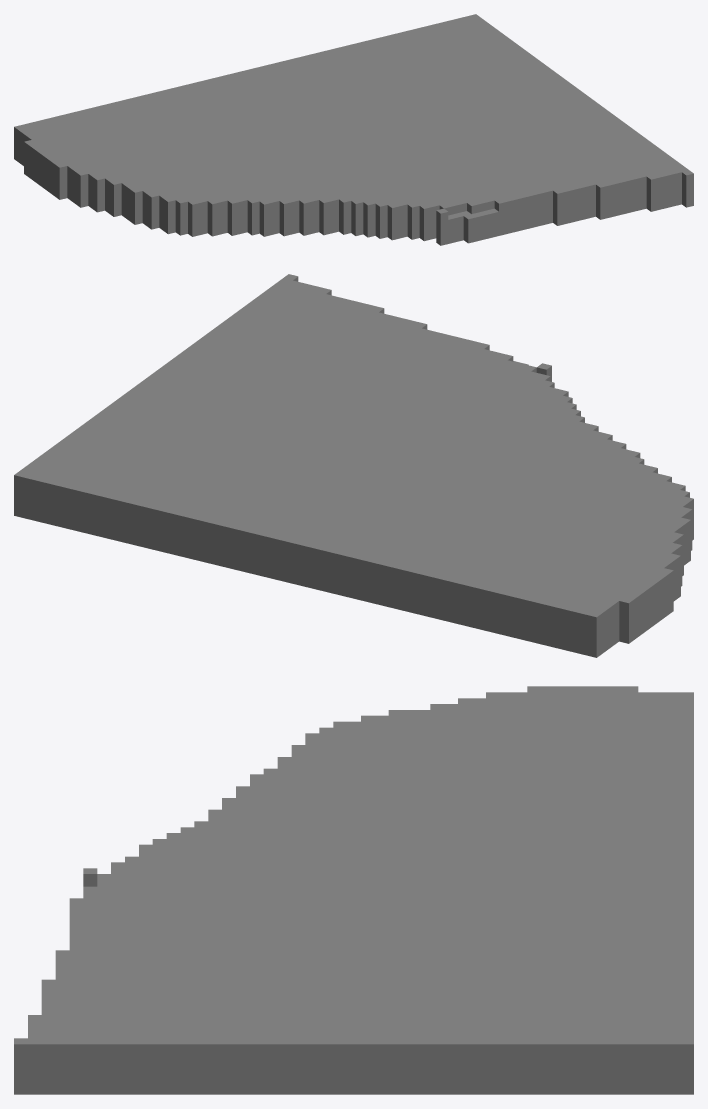
The model's file is Main Island-11.obj.
3 views of the same model, one above another, from view 1: azimuth 30°, elevation 25°; view 2: azimuth 150°, elevation 25°; view 3: azimuth 270°, elevation 25° (orthographic). The views are drawn at different scales.
Visible parts, largest first — view 1: Main Island-11; view 2: Main Island-11; view 3: Main Island-11.
Boxes of the visible parts, x1,y1,x2,y2 form: Main Island-11: (14, 14, 693, 245); Main Island-11: (14, 274, 693, 657); Main Island-11: (14, 686, 693, 1094).
Bounding box in the file's own units: 61 × 4 × 49.
Materials: 1 (1 with a texture image).
